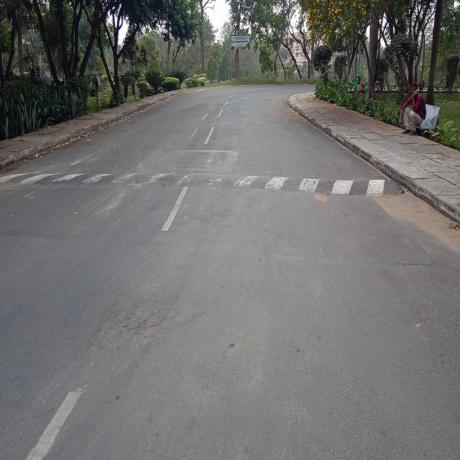Speed Bump: (3, 170, 404, 203)
